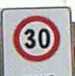limite 30: (11, 13, 61, 62)
